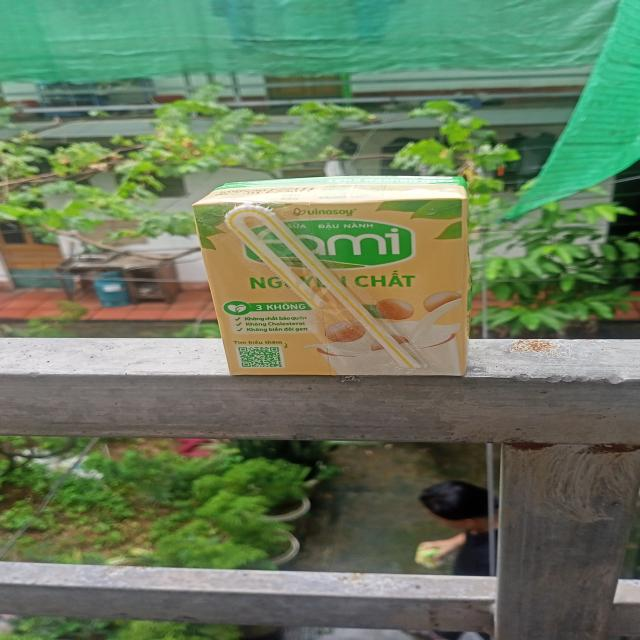Fami: (196, 176, 474, 379)
